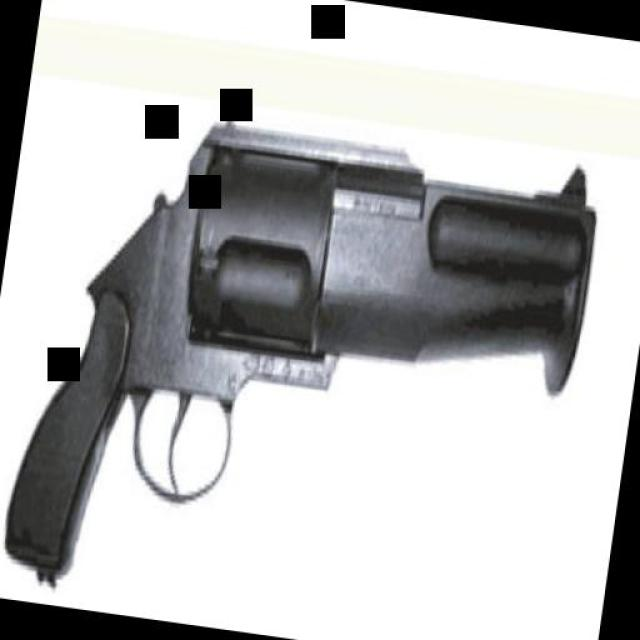gun: (0, 87, 604, 640)
